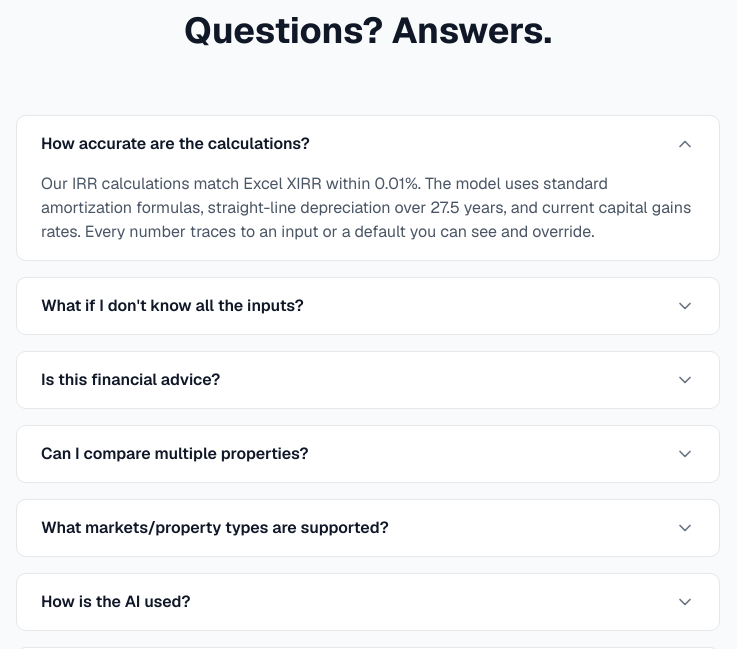
Scenario: FAQ › closes answer when clicking same question again
The image size is (737, 649).
# Click first question to close it
Click the button "How accurate are the calculations?" at (175, 144), box [17, 116, 719, 172]
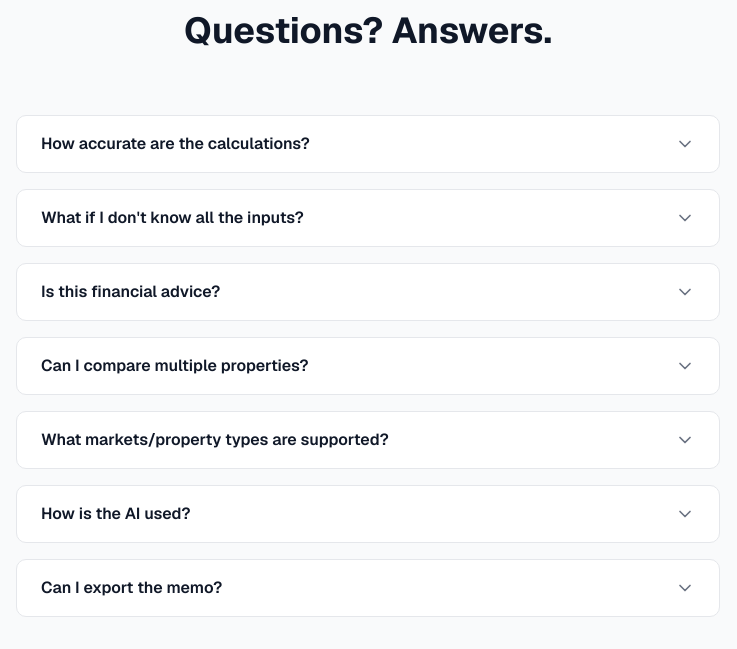
Expected: the text "IRR calculations match Excel XIRR" is gone
